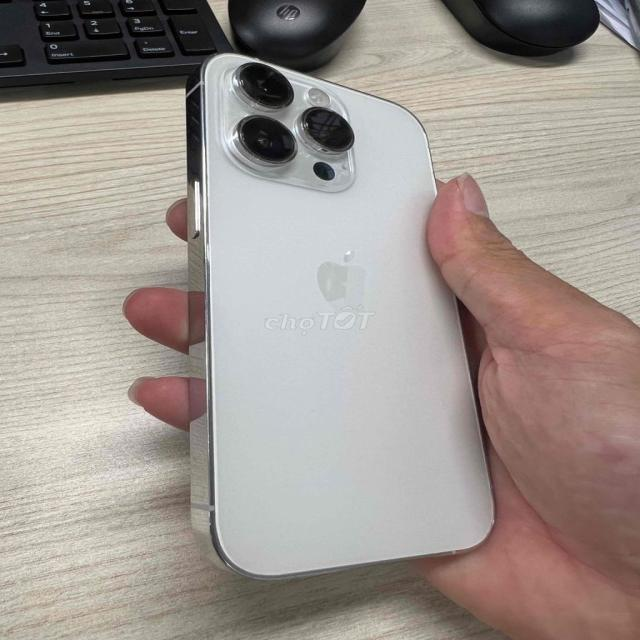gen_14: (177, 39, 507, 587)
